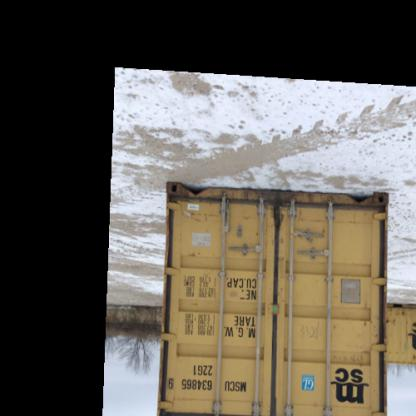Damage: (236, 191, 298, 232), (166, 182, 236, 209), (304, 194, 378, 214)
